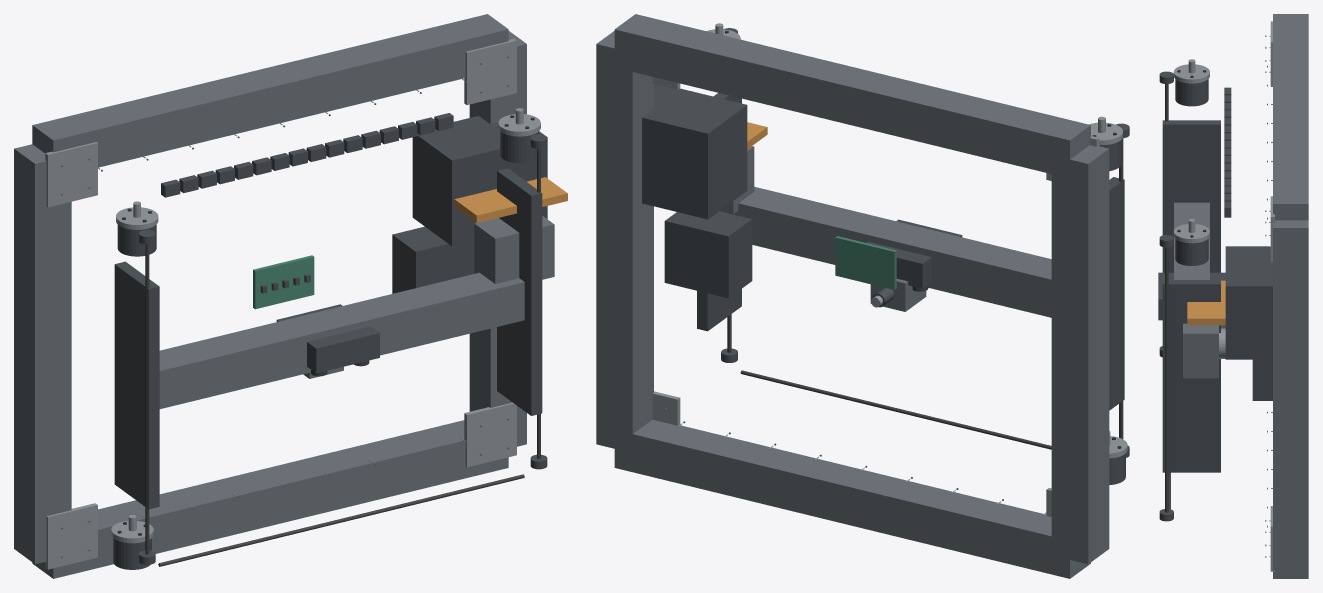
Rendered from laser-hybrid.glb.
3 views of the same model, side by side, from view 1: azimuth 30°, elevation 25°; view 2: azimuth 150°, elevation 25°; view 3: azimuth 270°, elevation 25° (orthographic). The views are drawn at different scales.
Parts seen in each view (by area): view 1: 0005_Y_aluminum_profile, 0009_X_end_cross_profile, 0001_Y_aluminum_profile, 0069_X_gantry_extrusion, 0073_Gantry_end_plate, 0198_Concept_fiber_source_enclosure, 0081_Gantry_end_plate, 0013_X_end_cross_profile, 0126_Controller_cover, 0199_Concept_galvo_scanner, 0043_Corner_bracket, 0017_Corner_bracket (+12 smaller); view 2: 0005_Y_aluminum_profile, 0001_Y_aluminum_profile, 0009_X_end_cross_profile, 0013_X_end_cross_profile, 0069_X_gantry_extrusion, 0198_Concept_fiber_source_enclosure, 0126_Controller_cover, 0073_Gantry_end_plate, 0120_Laser_driver_PCB, 0103_Laser_carriage_plate, 0102_X_timing_belt, 0081_Gantry_end_plate (+3 smaller); view 3: 0013_X_end_cross_profile, 0081_Gantry_end_plate, 0005_Y_aluminum_profile, 0073_Gantry_end_plate, 0198_Concept_fiber_source_enclosure, 0199_Concept_galvo_scanner, 0069_X_gantry_extrusion, 0092_Y_timing_belt, 0201_Module_isolation_bracket, 0126_Controller_cover, 0074_Y_stepper_motor_motor_body, 0082_Y_stepper_motor_motor_body (+5 smaller).
Boxes of the visible parts, x1,y1,x2,y2 form: 0005_Y_aluminum_profile: (32,14,508,167); 0009_X_end_cross_profile: (14,144,71,564); 0001_Y_aluminum_profile: (32,420,508,578); 0069_X_gantry_extrusion: (159,272,524,408); 0073_Gantry_end_plate: (114,261,159,509); 0198_Concept_fiber_source_enclosure: (412,115,547,246); 0081_Gantry_end_plate: (497,168,542,415); 0013_X_end_cross_profile: (469,31,526,446); 0126_Controller_cover: (392,226,474,293); 0199_Concept_galvo_scanner: (474,216,554,283); 0043_Corner_bracket: (464,402,516,467); 0017_Corner_bracket: (45,503,97,569); 0005_Y_aluminum_profile: (614,14,1090,178); 0001_Y_aluminum_profile: (614,419,1090,578); 0009_X_end_cross_profile: (1051,145,1109,564); 0013_X_end_cross_profile: (596,31,653,452); 0069_X_gantry_extrusion: (720,186,1051,317); 0198_Concept_fiber_source_enclosure: (642,84,747,219); 0126_Controller_cover: (664,211,752,298); 0073_Gantry_end_plate: (1109,177,1124,410); 0120_Laser_driver_PCB: (835,236,896,289); 0103_Laser_carriage_plate: (867,219,962,288); 0102_X_timing_belt: (740,370,1051,449); 0081_Gantry_end_plate: (697,93,741,331); 0013_X_end_cross_profile: (1273,220,1308,570); 0081_Gantry_end_plate: (1162,280,1220,472); 0005_Y_aluminum_profile: (1273,14,1308,220); 0073_Gantry_end_plate: (1162,120,1220,272); 0198_Concept_fiber_source_enclosure: (1225,246,1272,359); 0199_Concept_galvo_scanner: (1183,323,1218,378); 0069_X_gantry_extrusion: (1174,202,1209,279); 0092_Y_timing_belt: (1165,247,1168,512); 0201_Module_isolation_bracket: (1187,280,1225,325); 0126_Controller_cover: (1252,359,1272,400); 0074_Y_stepper_motor_motor_body: (1175,79,1208,106); 0082_Y_stepper_motor_motor_body: (1175,239,1208,265).
Size of the model in its own units: 540 by 460 by 168.
